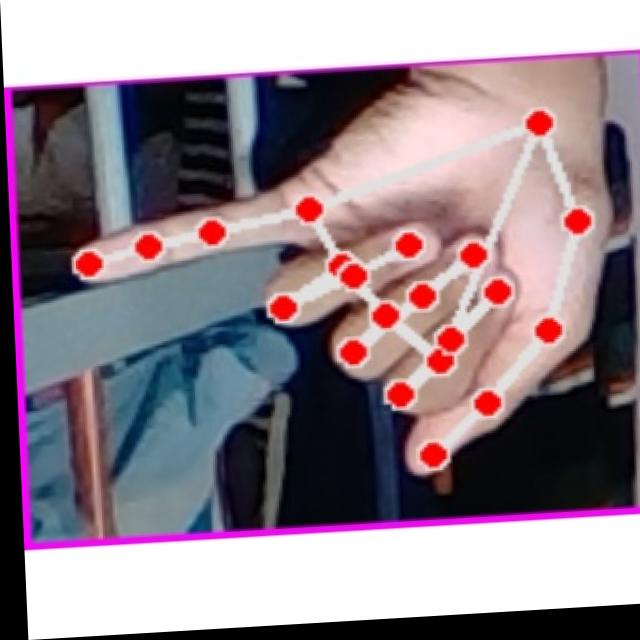J: (51, 90, 639, 506)
